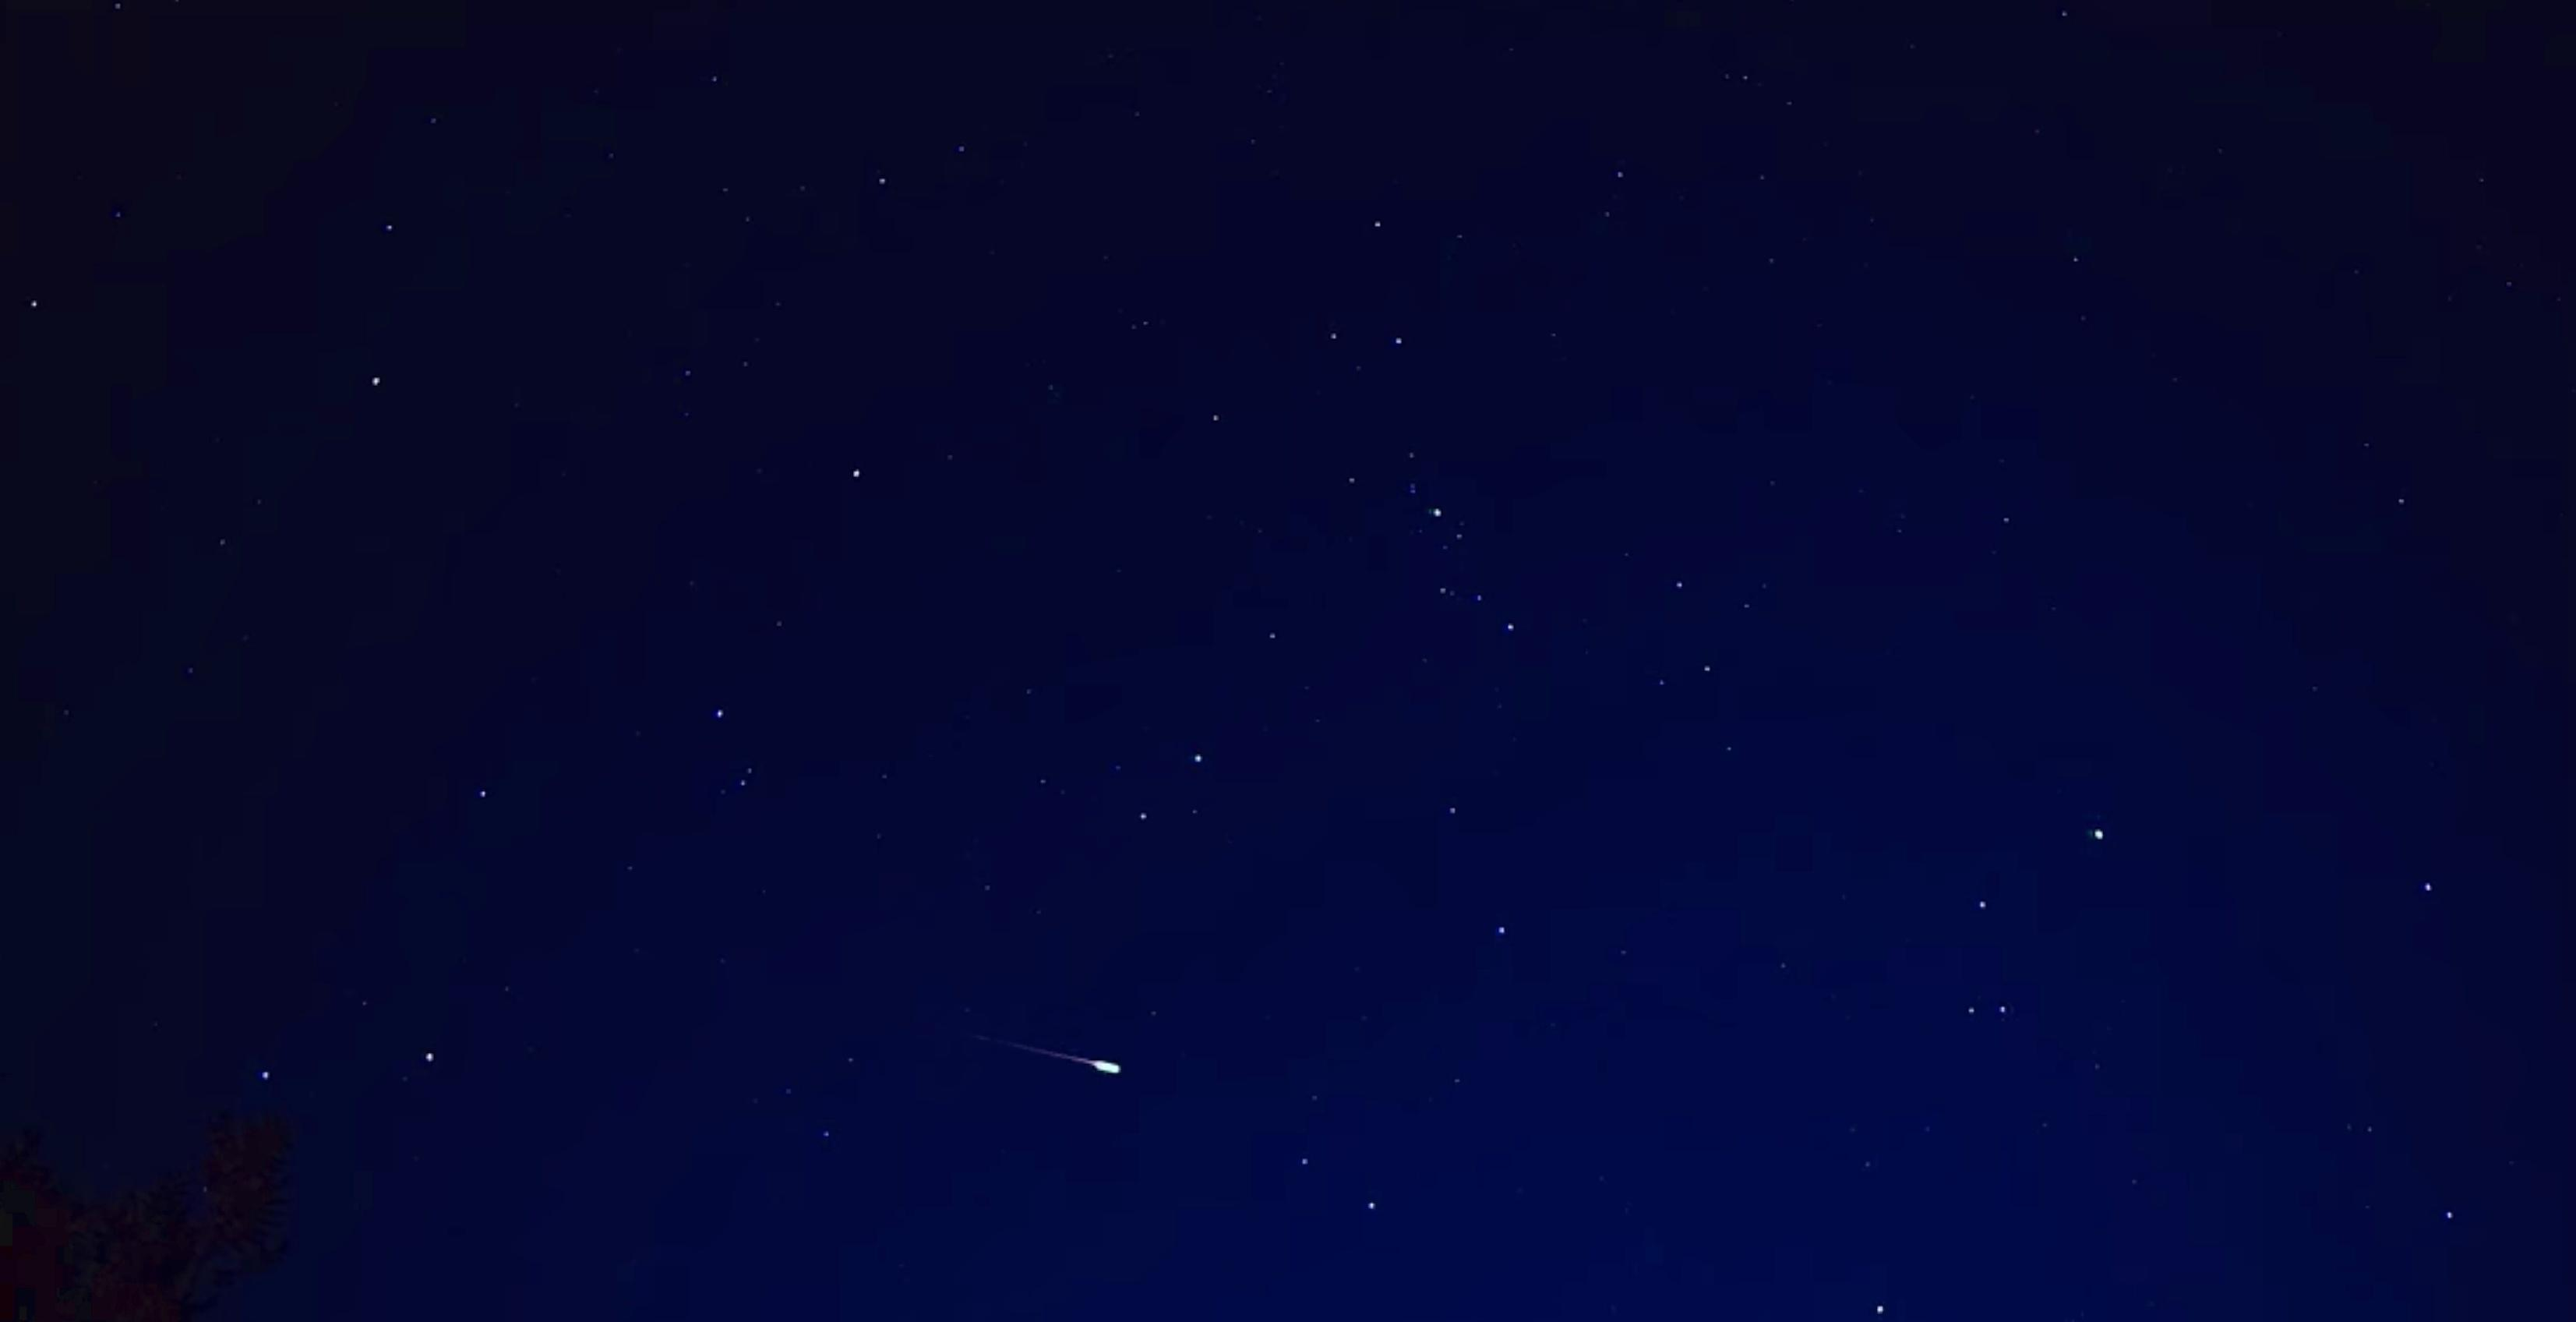meteorite: (895, 1010, 1184, 1093)
